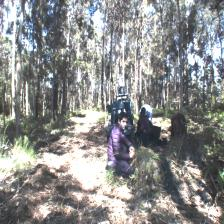trunktrack_idkeyframe: (15, 67, 20, 135), (179, 73, 183, 113)
